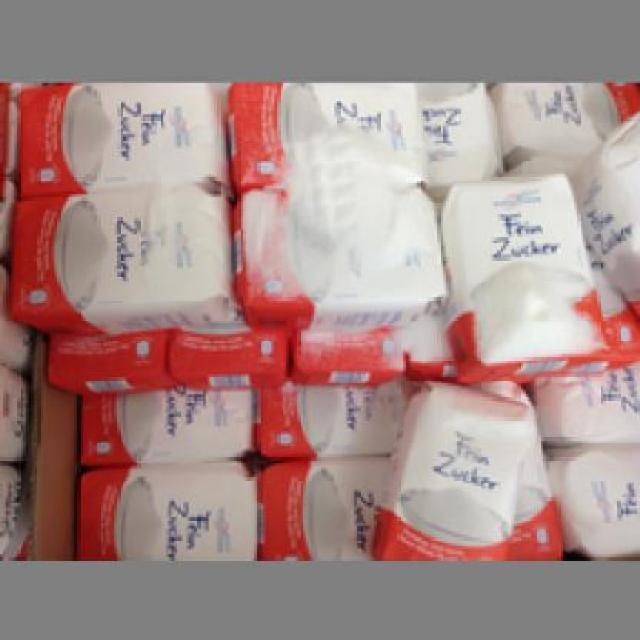Sugar: (443, 168, 606, 388), (0, 183, 237, 326), (357, 380, 532, 557), (231, 185, 446, 328), (8, 83, 225, 186), (223, 82, 426, 188), (62, 466, 258, 554), (258, 457, 382, 554)
